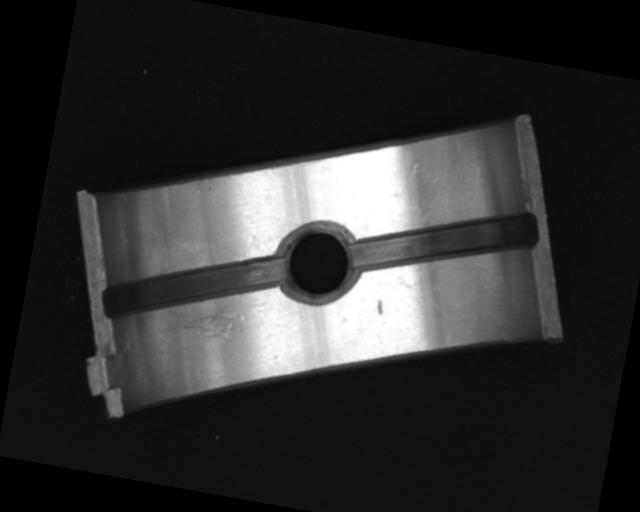bruise: (374, 298, 386, 317)
gap: (99, 227, 288, 346), (350, 186, 538, 297)
hole: (273, 218, 364, 307)
scratch: (159, 282, 263, 350)
